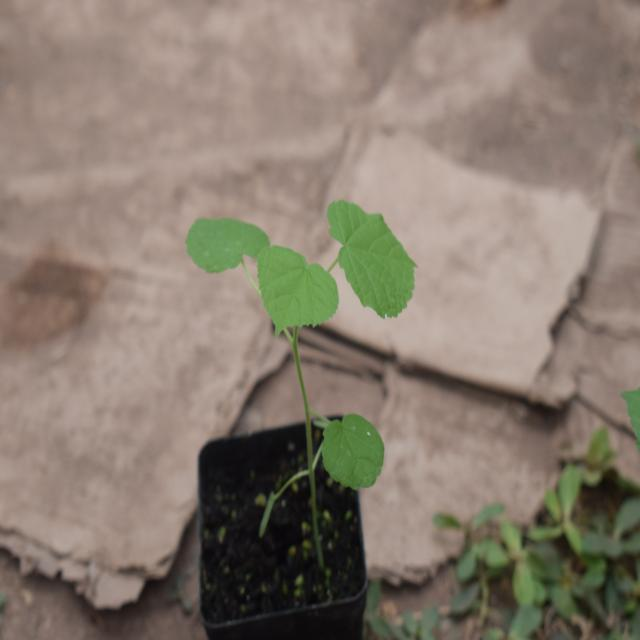abutilon theophrasti: (172, 173, 415, 504)
